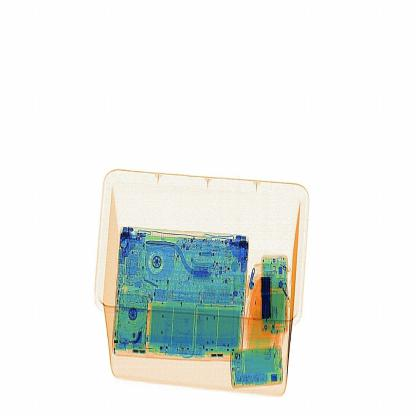scissors: (259, 270, 285, 328)
